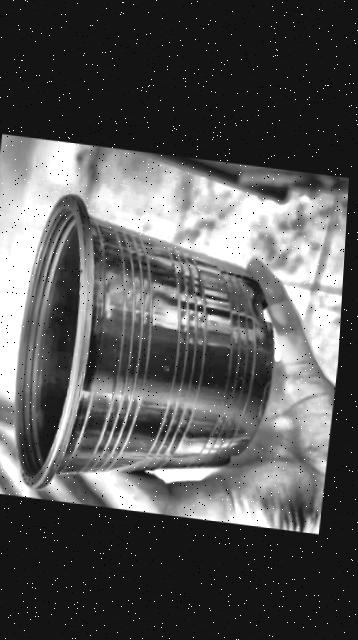pot: (16, 194, 274, 487)
